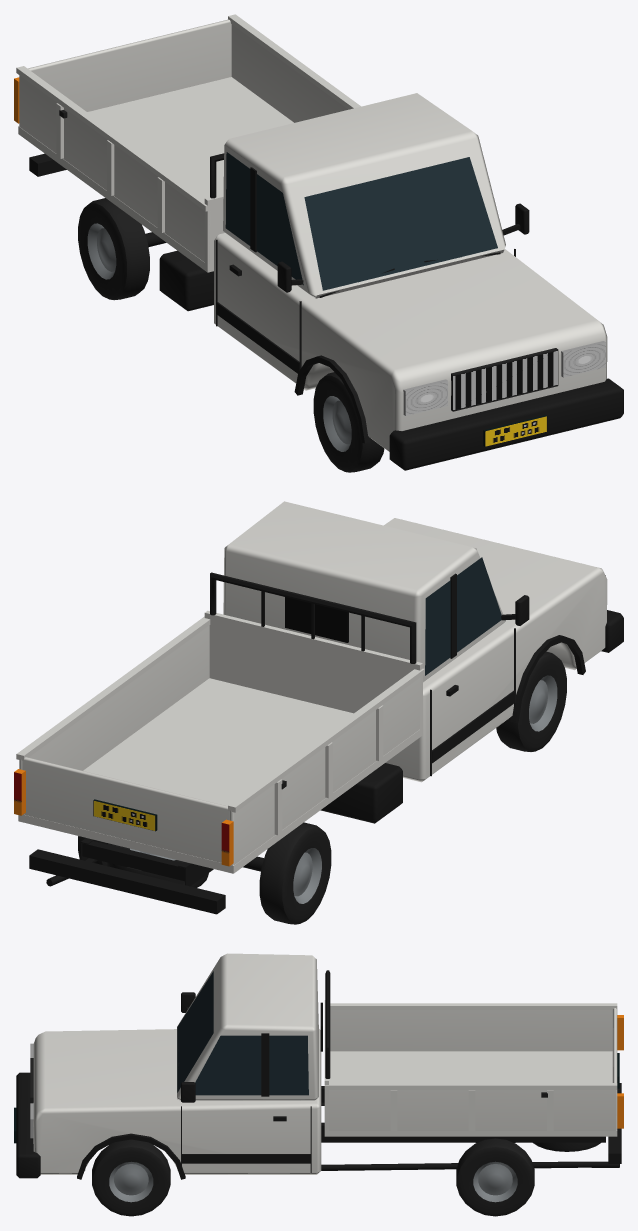
Rendered from pickup_bolero.glb.
3 renders of one model, top to bottom at view 1: azimuth 30°, elevation 25°; view 2: azimuth 150°, elevation 25°; view 3: azimuth 270°, elevation 25°, orthographic. The views are drawn at different scales.
Parts seen in each view (by area): view 1: pickup_bolero; view 2: pickup_bolero; view 3: pickup_bolero.
Boxes of the visible parts, <box> form: pickup_bolero: <box>14,14,623,472</box>; pickup_bolero: <box>14,501,623,924</box>; pickup_bolero: <box>14,953,623,1216</box>.
Bounding box in the file's own units: 1.95 × 1.88 × 5.46.
Materials: 6 (1 with a texture image).
